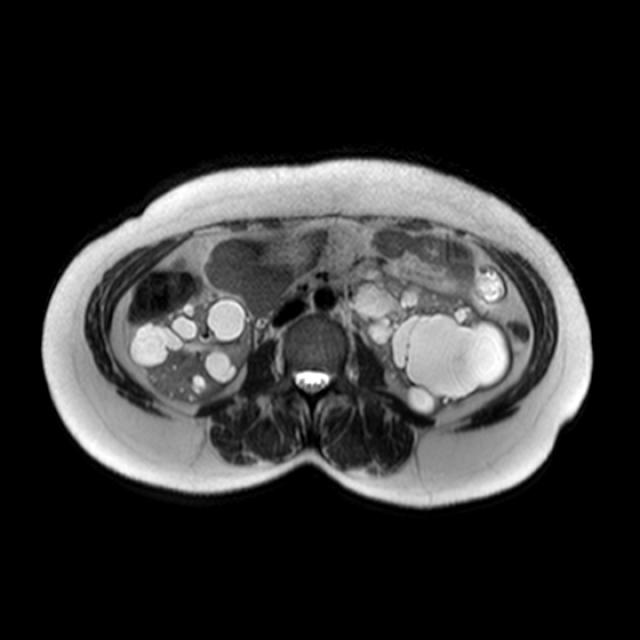sag: (130, 295, 255, 403)
sol: (348, 258, 515, 412)
